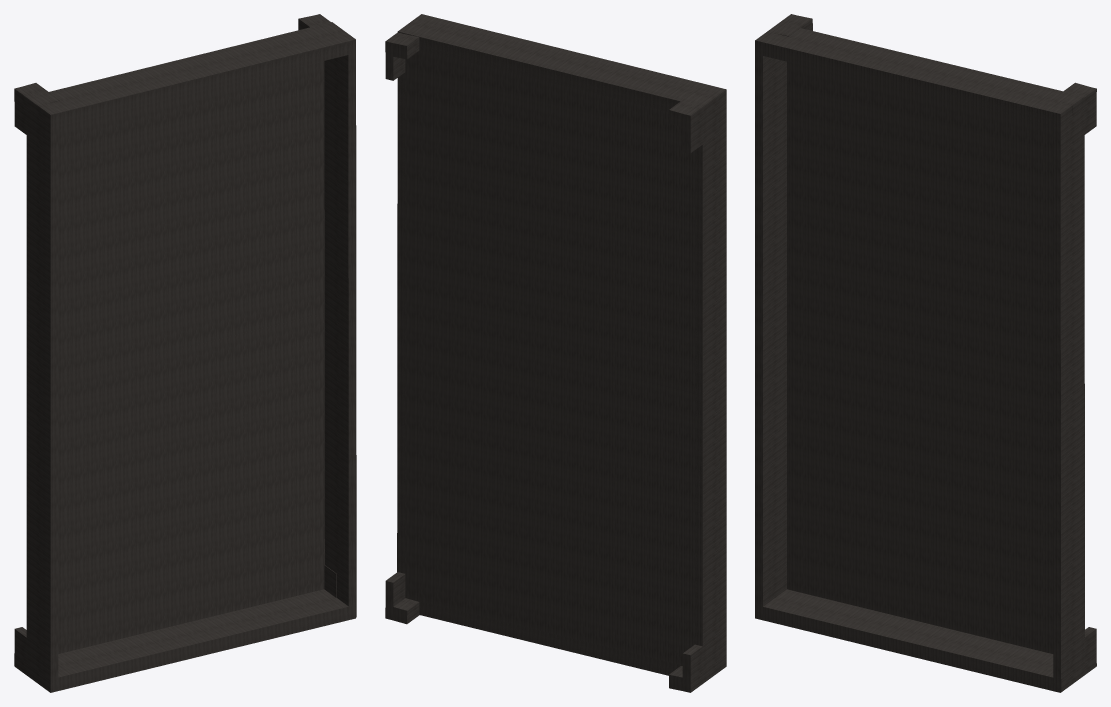
File: cama.dae
3 views of the same model, side by side, from view 1: azimuth 30°, elevation 25°; view 2: azimuth 150°, elevation 25°; view 3: azimuth 330°, elevation 25° (orthographic).
Parts seen in each view (by area): view 1: node; view 2: node; view 3: node.
Part boxes in pixels (x1,y1,x2,y2): node: (14,14,356,692); node: (385,14,726,692); node: (755,14,1096,692).
Bounding box in the file's own units: 1357 × 2454 × 277.
1 material, 1 textured.
